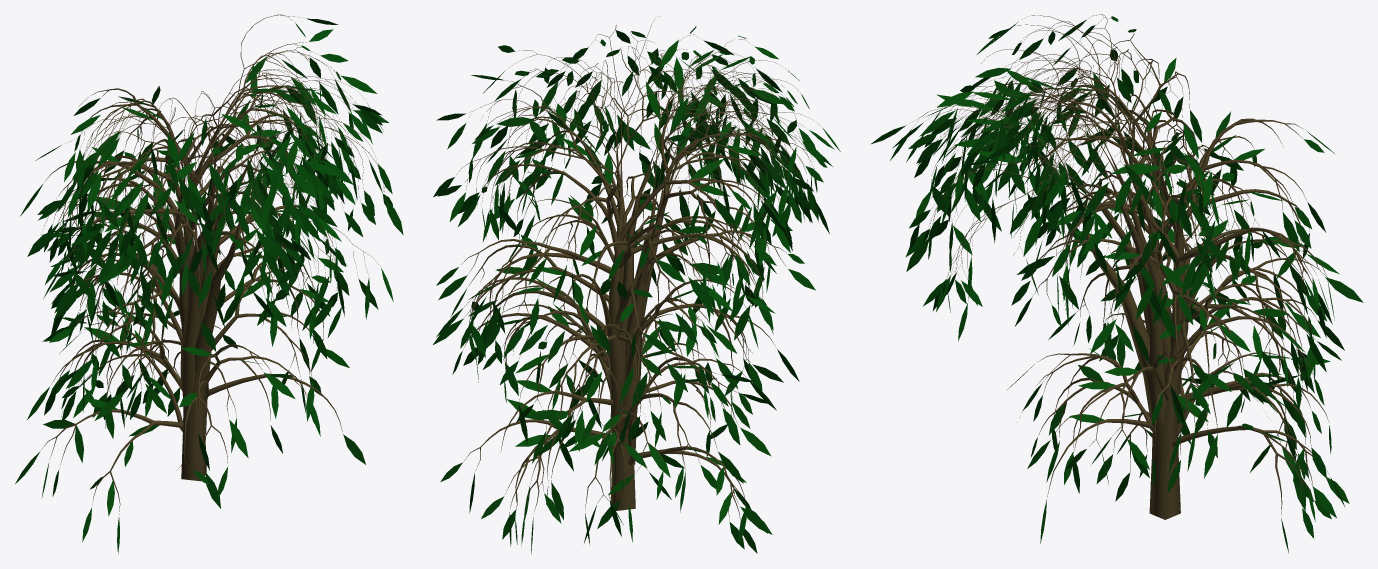
The model's file is willow_2.glb.
3 renders of one model, left to right at view 1: azimuth 30°, elevation 25°; view 2: azimuth 150°, elevation 25°; view 3: azimuth 270°, elevation 25°, orthographic. The views are drawn at different scales.
Parts seen in each view (by area): view 1: leaves, tree; view 2: leaves, tree; view 3: leaves, tree.
Part boxes in pixels (x1=…): leaves: x1=15, y1=18, x2=403, y2=553; tree: x1=41, y1=14, x2=385, y2=514; leaves: x1=433, y1=26, x2=840, y2=553; tree: x1=456, y1=16, x2=817, y2=523; leaves: x1=871, y1=16, x2=1363, y2=553; tree: x1=909, y1=14, x2=1329, y2=519.
Bounding box in the file's own units: 9.47 × 12.21 × 10.72.
